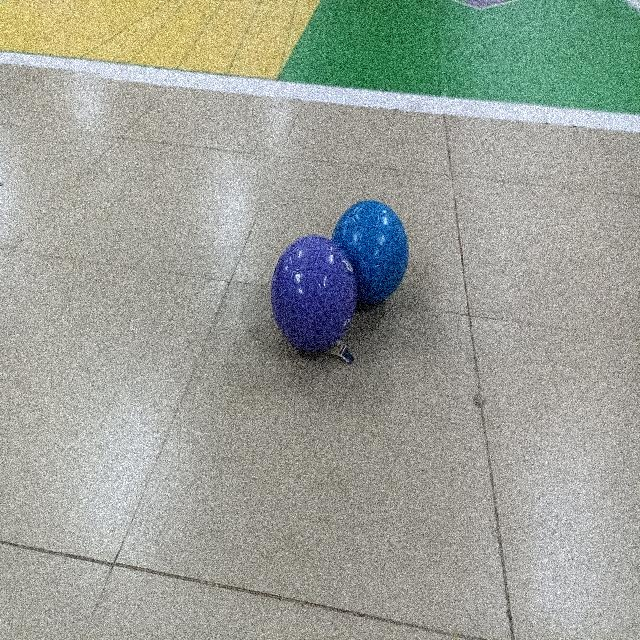blue_ball: (329, 202, 408, 309)
purple_ball: (269, 235, 356, 355)
